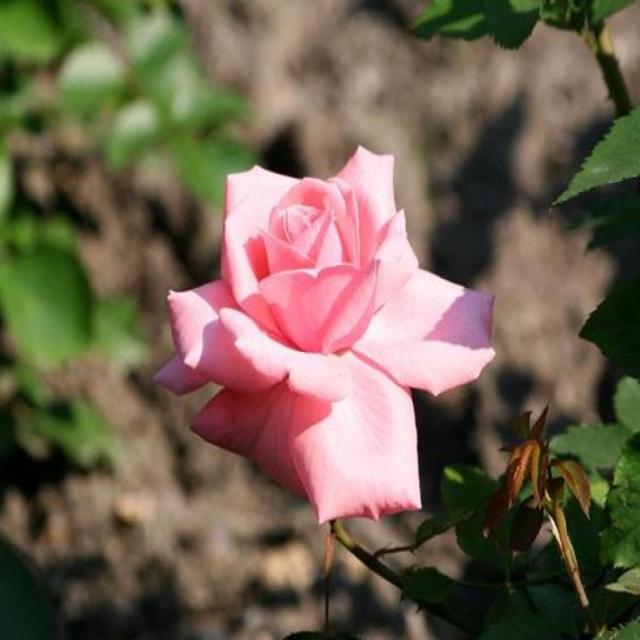rose: (121, 84, 544, 565)
